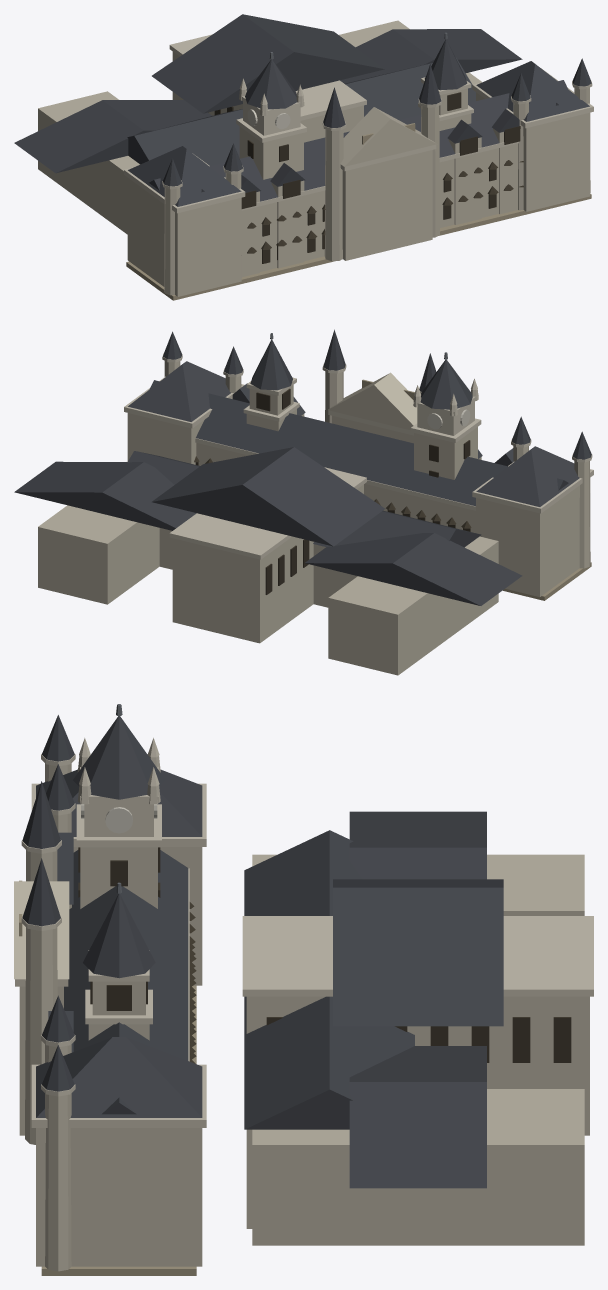
Rendered from royal_courts_of_justice.glb.
3 views of the same model, one above another, from view 1: azimuth 30°, elevation 25°; view 2: azimuth 150°, elevation 25°; view 3: azimuth 270°, elevation 25° (orthographic). The views are drawn at different scales.
Visible parts, largest first — view 1: royal_courts_of_justice; view 2: royal_courts_of_justice; view 3: royal_courts_of_justice.
Part boxes in pixels (bbox=[...]): royal_courts_of_justice: bbox=[14, 14, 593, 300]; royal_courts_of_justice: bbox=[14, 329, 593, 675]; royal_courts_of_justice: bbox=[14, 704, 593, 1275].
Bounding box in the file's own units: 161 × 66.2 × 105.
